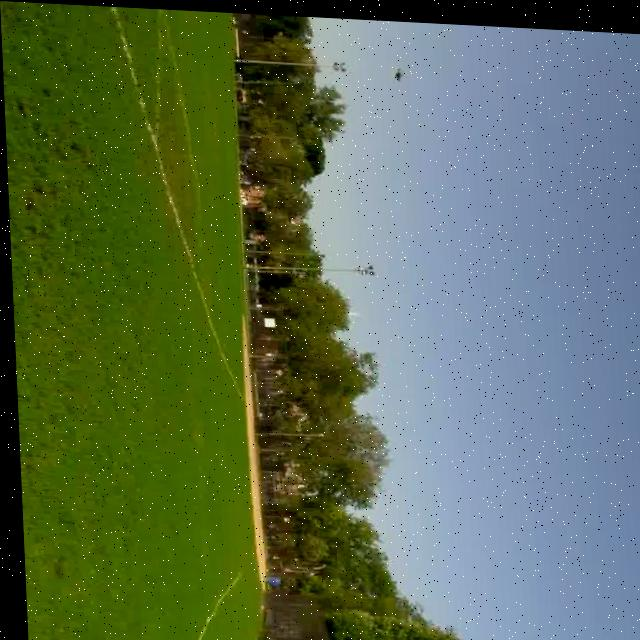drone: (380, 56, 411, 82)
